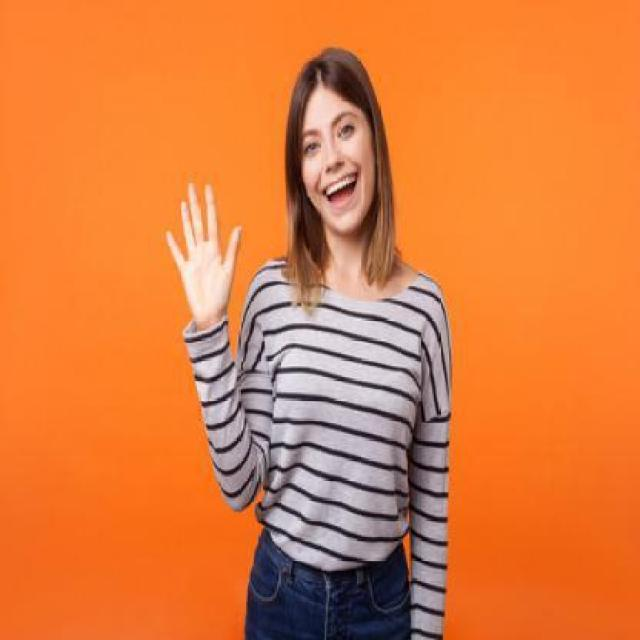no-gloves: (162, 168, 250, 346)
